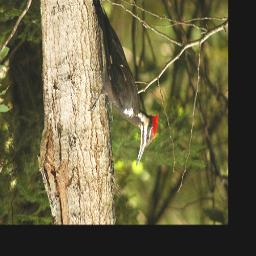Woodpecker: (85, 0, 160, 167)
